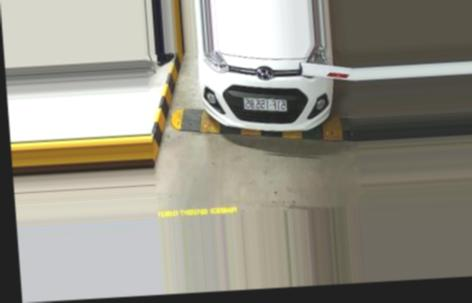License_Plate: (238, 93, 290, 116)
